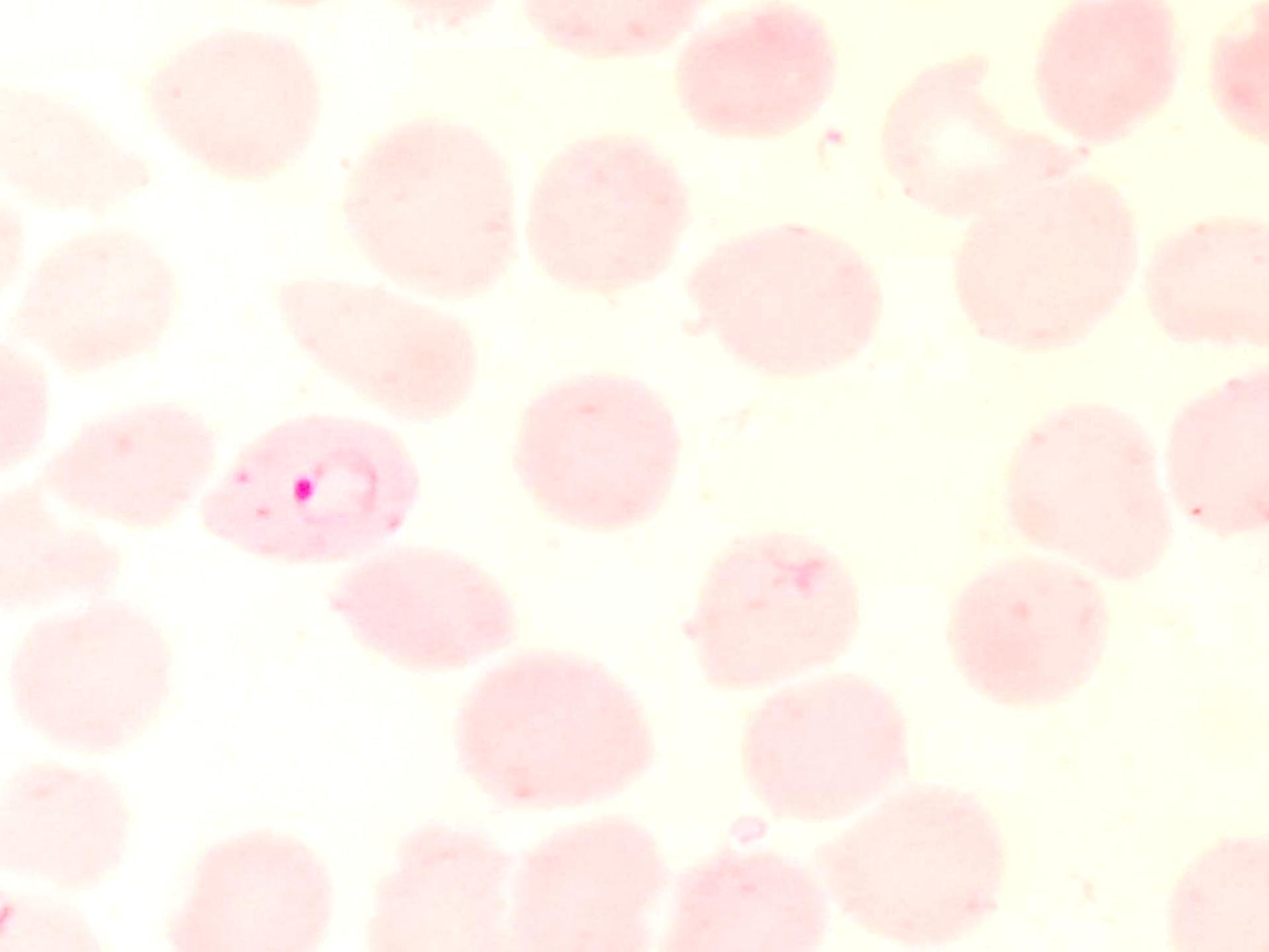Infected: (205, 417, 420, 560)
Uninfected: (881, 55, 1095, 217), (957, 174, 1142, 349), (453, 648, 660, 802), (344, 116, 516, 301), (273, 270, 479, 424), (689, 218, 882, 374), (1003, 407, 1176, 577), (815, 790, 1007, 938), (694, 529, 864, 687), (525, 137, 692, 296), (139, 32, 319, 178), (742, 673, 915, 823), (516, 375, 684, 527), (948, 554, 1113, 705), (673, 0, 843, 144), (5, 603, 168, 749), (17, 227, 176, 374), (332, 544, 516, 670), (43, 400, 215, 531), (511, 818, 666, 952), (167, 828, 330, 952), (1033, 0, 1183, 133), (359, 824, 514, 952), (0, 88, 154, 211), (1165, 369, 1269, 535), (661, 851, 824, 952), (3, 758, 129, 888), (1142, 218, 1269, 346)
